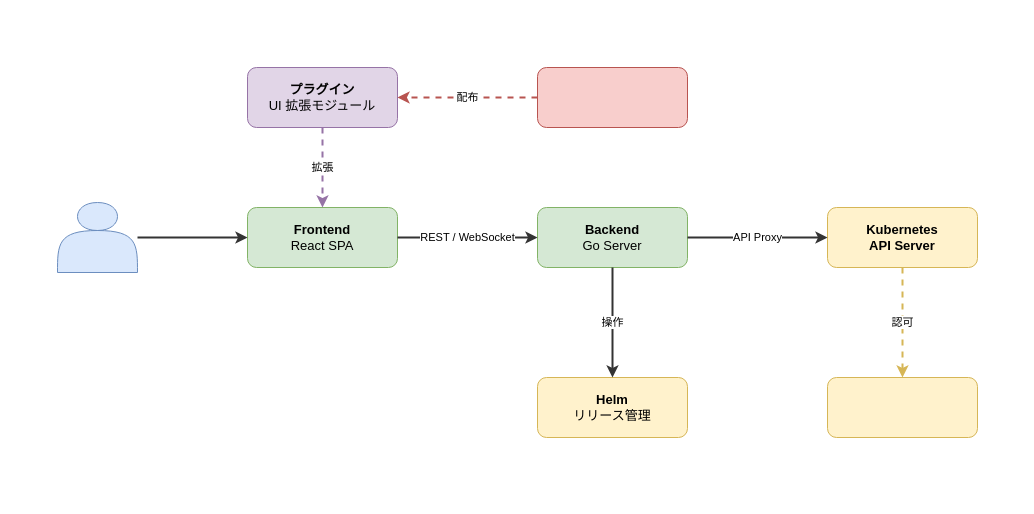
This 1034x514 diagram has some shape labels left out. The centre of each missing label's shape, as x and y in pixels:
Artifact Hub プラグイン配布: the point at 612,97
RBAC 認可制御: the point at 902,407
ユーザー: the point at 97,237
